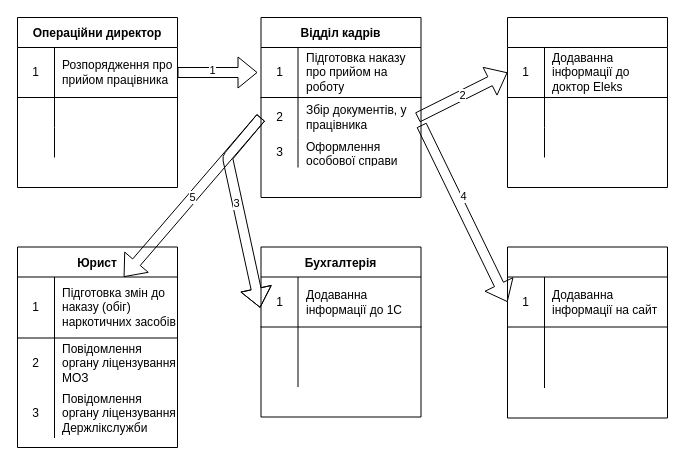
The diagram is 685 pixels wide and 465 high, and some of its shapes have lost their labels. Each missing label, with the box of its shape:
Адміністратор сайту: (506, 246, 668, 418)
Головний адміністратор: (506, 16, 668, 188)
